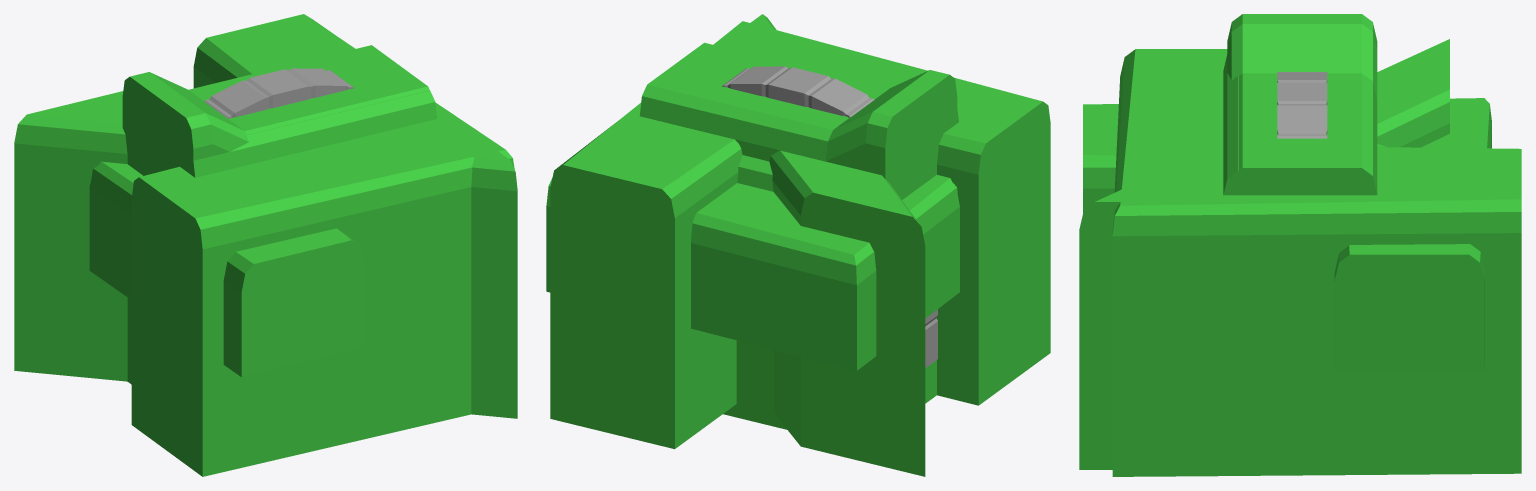
The model's file is Maze1 1.fbx.
3 renders of one model, left to right at view 1: azimuth 30°, elevation 25°; view 2: azimuth 150°, elevation 25°; view 3: azimuth 270°, elevation 25°, orthographic. The views are drawn at different scales.
Visible parts, largest first — view 1: Hedge_Turn_Wide_Cube.001, Hedge_Turn_Wide_Cube.012, Hedge_Angle_Cube.001, Hedge_Turn_Wide_Short_Cube.017, Hedge_Turn_Wide_Short_Cube.001, Hedge_Inset_Double_Cube.001, Hedge_Inset_Single_Cube.010, Hedge_Ramp_Cube.001, Hedge_Ramp_Cube.013, Stone_Arch_Cube.027, Hedge_Door_Cube.001, Stone_Arch_Cube.001; view 2: Hedge_Turn_Wide_Cube.001, Hedge_Turn_Wide_Cube.012, Hedge_Angle_Cube.011, Hedge_Turn_Wide_Short_Cube.017, Hedge_Inset_Double_Cube.001, Hedge_Turn_Wide_Short_Cube.001, Hedge_Ramp_Cube.001, Hedge_Angle_Cube.001, Hedge_Inset_Double_Cube.009, Hedge_Turn_Cube.004, Stone_Arch_Cube.027, Hedge_Door_Cube.001 (+3 smaller); view 3: Hedge_Turn_Wide_Cube.012, Hedge_Turn_Wide_Cube.001, Hedge_Turn_Wide_Short_Cube.017, Hedge_Angle_Cube.011, Hedge_Angle_Cube.001, Hedge_Inset_Double_Cube.001, Hedge_Ramp_Cube.001, Hedge_Inset_Single_Cube.001, Stone_Arch_Cube.001, Hedge_Ramp_Cube.013, Stone_Arch_Cube.027, Hedge_Inset_Single_Cube.010 (+1 smaller).
Boxes of the visible parts, <box> form: Hedge_Turn_Wide_Cube.001: <box>131,14,514,476</box>; Hedge_Turn_Wide_Cube.012: <box>193,17,509,476</box>; Hedge_Angle_Cube.001: <box>14,91,517,418</box>; Hedge_Turn_Wide_Short_Cube.017: <box>96,161,364,376</box>; Hedge_Turn_Wide_Short_Cube.001: <box>89,162,358,376</box>; Hedge_Inset_Double_Cube.001: <box>188,45,429,134</box>; Hedge_Inset_Single_Cube.010: <box>126,90,437,177</box>; Hedge_Ramp_Cube.001: <box>122,72,244,175</box>; Hedge_Ramp_Cube.013: <box>130,72,248,160</box>; Stone_Arch_Cube.027: <box>204,68,354,118</box>; Hedge_Door_Cube.001: <box>123,112,192,366</box>; Stone_Arch_Cube.001: <box>209,68,353,118</box>; Hedge_Turn_Wide_Cube.001: <box>550,21,1050,437</box>; Hedge_Turn_Wide_Cube.012: <box>555,124,983,449</box>; Hedge_Angle_Cube.011: <box>751,15,925,476</box>; Hedge_Turn_Wide_Short_Cube.017: <box>546,175,952,370</box>; Hedge_Inset_Double_Cube.001: <box>641,42,889,161</box>; Hedge_Turn_Wide_Short_Cube.001: <box>723,178,959,370</box>; Hedge_Ramp_Cube.001: <box>825,70,957,178</box>; Hedge_Angle_Cube.001: <box>719,14,919,224</box>; Hedge_Inset_Double_Cube.009: <box>640,84,900,179</box>; Hedge_Turn_Cube.004: <box>723,155,786,429</box>; Stone_Arch_Cube.027: <box>722,66,937,329</box>; Hedge_Door_Cube.001: <box>886,111,956,385</box>; Hedge_Turn_Wide_Cube.012: <box>1112,56,1521,476</box>; Hedge_Turn_Wide_Cube.001: <box>1112,49,1521,233</box>; Hedge_Turn_Wide_Short_Cube.017: <box>1083,98,1491,371</box>; Hedge_Angle_Cube.011: <box>1079,89,1449,469</box>; Hedge_Angle_Cube.001: <box>1079,39,1449,469</box>; Hedge_Inset_Double_Cube.001: <box>1238,73,1377,195</box>; Hedge_Ramp_Cube.001: <box>1234,14,1377,99</box>; Hedge_Inset_Single_Cube.001: <box>1223,76,1371,195</box>; Stone_Arch_Cube.001: <box>1277,72,1327,138</box>; Hedge_Ramp_Cube.013: <box>1227,14,1361,79</box>; Stone_Arch_Cube.027: <box>1277,72,1327,135</box>; Hedge_Inset_Single_Cube.010: <box>1223,54,1237,194</box>.
Bounding box in the file's own units: 295 × 253 × 299.
